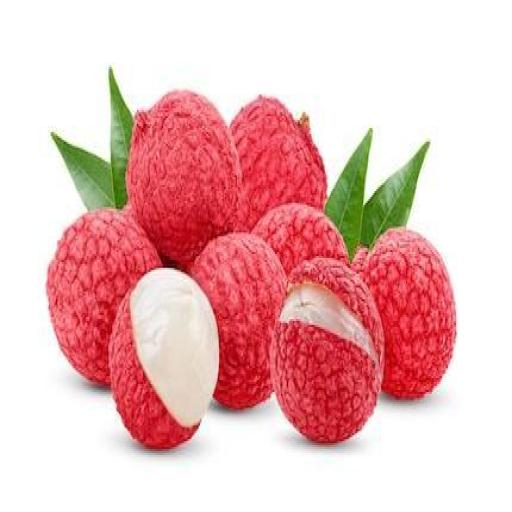lychee: (271, 258, 384, 443), (47, 209, 160, 383), (110, 268, 219, 448), (127, 91, 240, 263), (192, 233, 285, 409), (361, 229, 456, 397), (230, 97, 326, 230), (253, 203, 348, 273), (352, 247, 367, 273)
